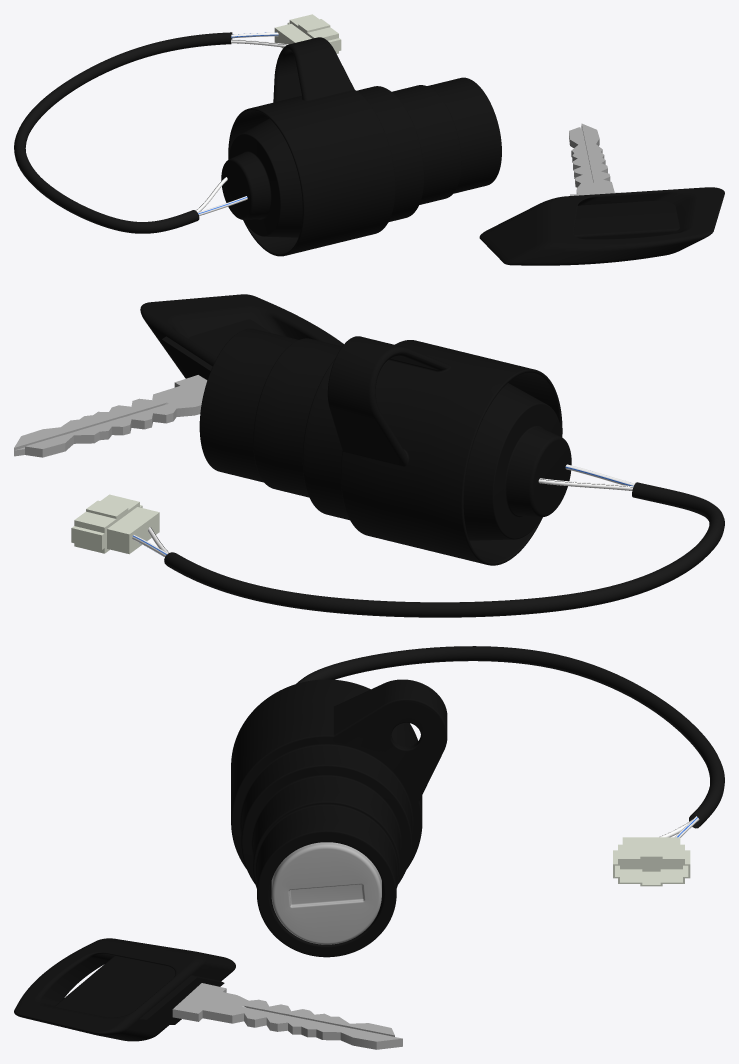
File: kunci_kontak_REV1.glb
3 views of the same model, one above another, from view 1: azimuth 30°, elevation 25°; view 2: azimuth 150°, elevation 25°; view 3: azimuth 270°, elevation 25° (orthographic). The views are drawn at different scales.
Parts seen in each view (by area): view 1: Lock, Lock.001, NurbsCurve.CBL.BIG, Cube, connector, NurbsCurve.CBL.001, NurbsCurve.CBL.002; view 2: Lock, NurbsCurve.CBL.BIG, Lock.001, Cube, connector, NurbsCurve.CBL.002, NurbsCurve.CBL.001; view 3: Lock, Lock.001, Lock_02, NurbsCurve.CBL.BIG, Cube, connector.
Boxes of the visible parts, left/top/right/bottom form: Lock: left=221, top=37, right=501, bottom=256; Lock.001: left=479, top=187, right=724, bottom=265; NurbsCurve.CBL.BIG: left=14, top=32, right=232, bottom=233; Cube: left=569, top=123, right=620, bottom=195; connector: left=274, top=14, right=341, bottom=53; NurbsCurve.CBL.001: left=198, top=32, right=278, bottom=215; NurbsCurve.CBL.002: left=196, top=39, right=288, bottom=212; Lock: left=199, top=328, right=571, bottom=565; NurbsCurve.CBL.BIG: left=164, top=482, right=724, bottom=617; Lock.001: left=140, top=294, right=343, bottom=380; Cube: left=14, top=375, right=207, bottom=457; connector: left=71, top=494, right=159, bottom=554; NurbsCurve.CBL.002: left=148, top=478, right=633, bottom=553; NurbsCurve.CBL.001: left=132, top=464, right=634, bottom=557; Lock: left=231, top=679, right=447, bottom=957; Lock.001: left=14, top=938, right=235, bottom=1041; Lock_02: left=271, top=842, right=381, bottom=944; NurbsCurve.CBL.BIG: left=296, top=646, right=724, bottom=828; Cube: left=172, top=983, right=402, bottom=1049; connector: left=613, top=837, right=690, bottom=886.
Size of the model in its own units: 2.67 by 0.7792 by 2.38.
7 materials, 2 textured.
